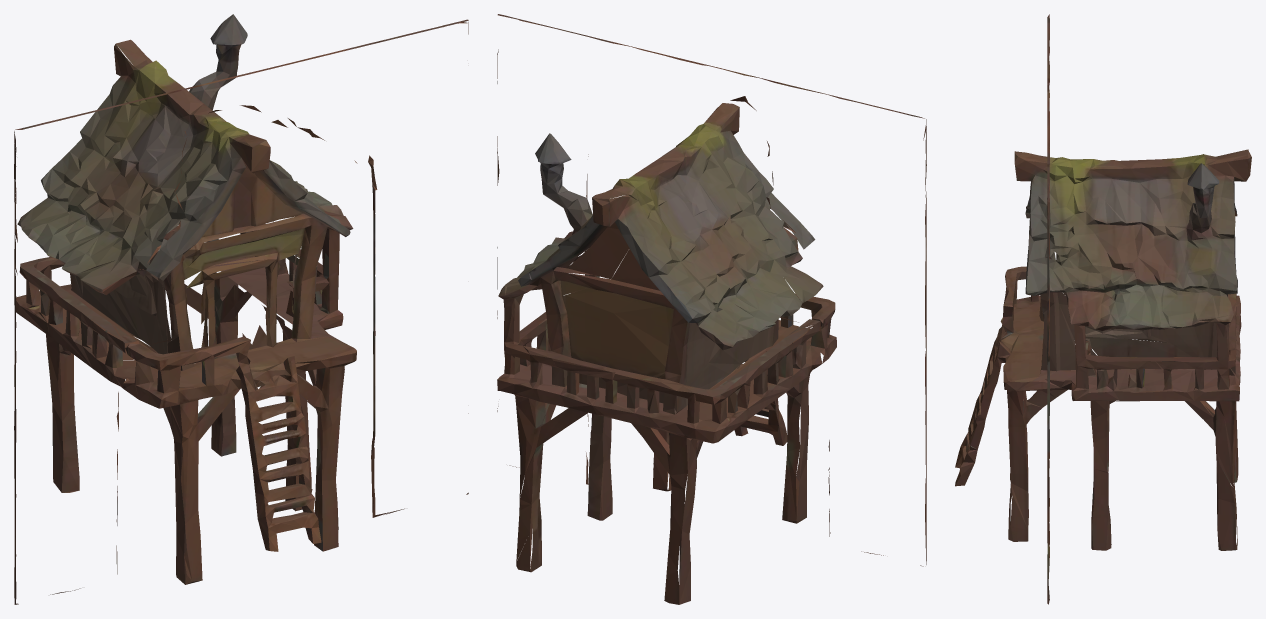
Rendered from hut_c.glb.
The picture shows the model from 3 angles, left to right: view 1: azimuth 30°, elevation 25°; view 2: azimuth 150°, elevation 25°; view 3: azimuth 270°, elevation 25°; orthographic projection. The views are drawn at different scales.
Visible parts, largest first — view 1: geometry_0; view 2: geometry_0; view 3: geometry_0.
Part boxes in pixels (x1,y1,x2,y2): geometry_0: (14,14,468,604); geometry_0: (497,14,926,604); geometry_0: (955,14,1251,604).
Size of the model in its own units: 2.6 by 2.6 by 1.73.
Materials: 1 (1 with a texture image).
